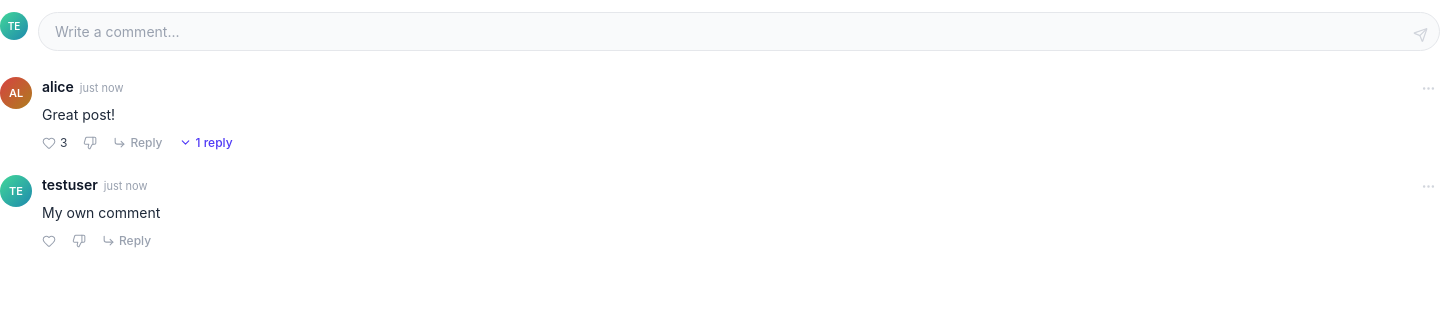
Test: CommentSection › shows reply form with @mention placeholder when Reply clicked
What coordinates should you click on to do the following:
click the button "Reply" below "Great post!"
I would click on:
 (138, 143)
Its box is [113,135,162,151].
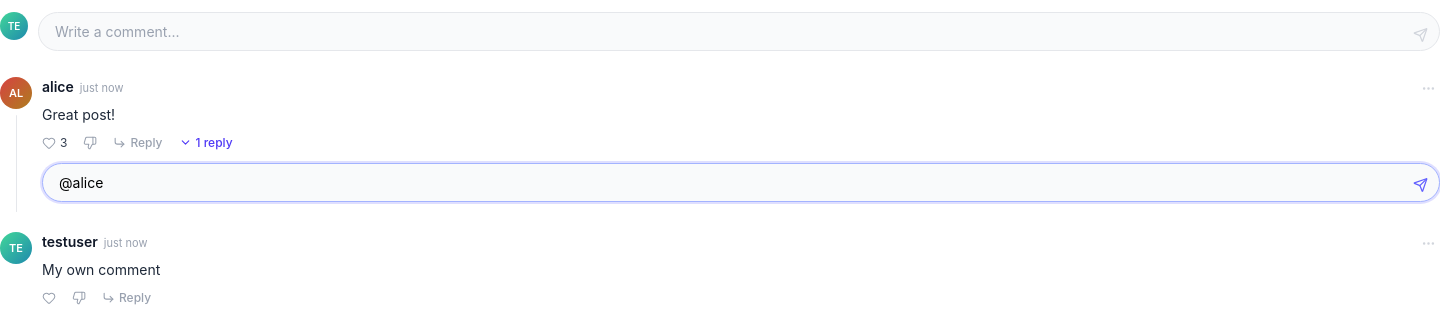
Expected: the text box with placeholder "Reply to @alice…" is shown, [42,163,1440,202]
